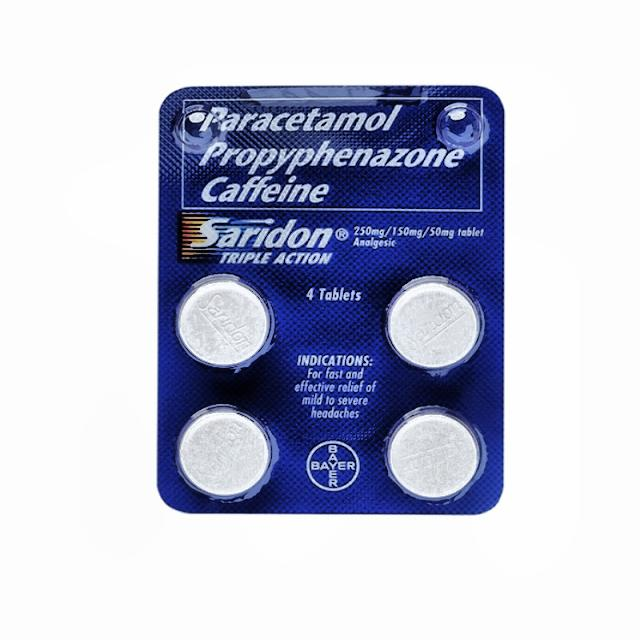Saridon: (161, 177, 366, 275)
